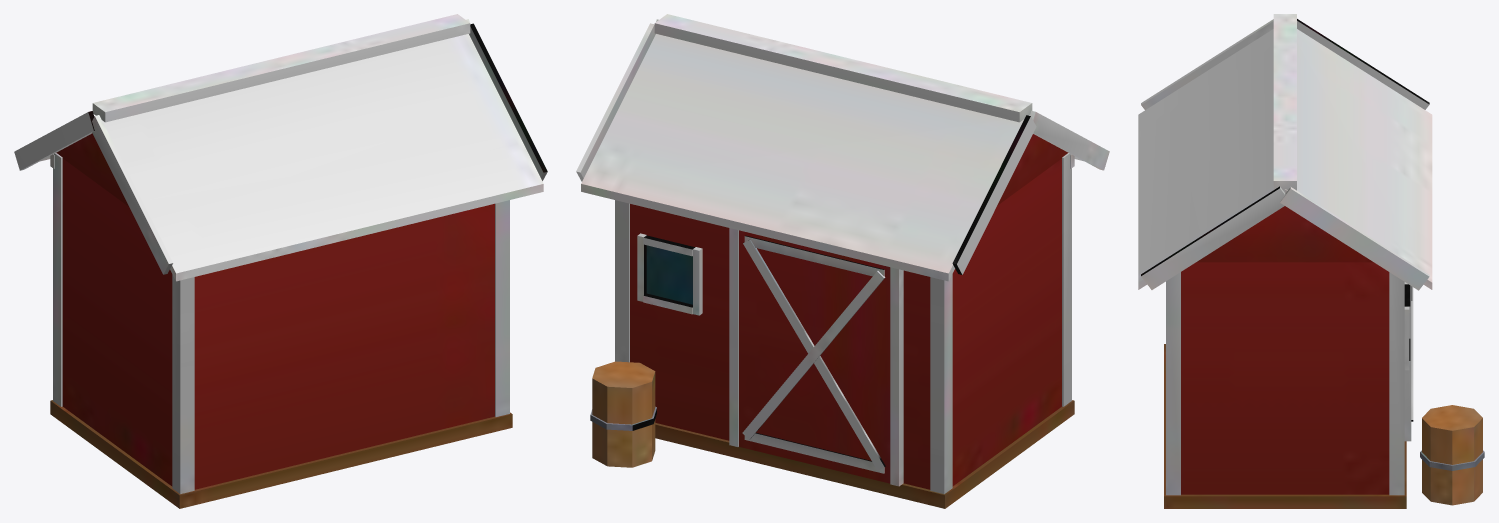
The model's file is storehouse_2_low.glb.
3 renders of one model, left to right at view 1: azimuth 30°, elevation 25°; view 2: azimuth 150°, elevation 25°; view 3: azimuth 270°, elevation 25°, orthographic. The views are drawn at different scales.
Visible parts, largest first — view 1: shed2_red_low; view 2: shed2_red_low, door; view 3: shed2_red_low, door.
Part boxes in pixels (x1=…): shed2_red_low: x1=14, y1=14, x2=547, y2=508; shed2_red_low: x1=576, y1=14, x2=1109, y2=508; door: x1=739, y1=230, x2=890, y2=483; shed2_red_low: x1=1138, y1=14, x2=1484, y2=508; door: x1=1411, y1=286, x2=1413, y2=421.
Size of the model in its own units: 3.5 by 3.15 by 2.94.
5 materials, 5 textured.
